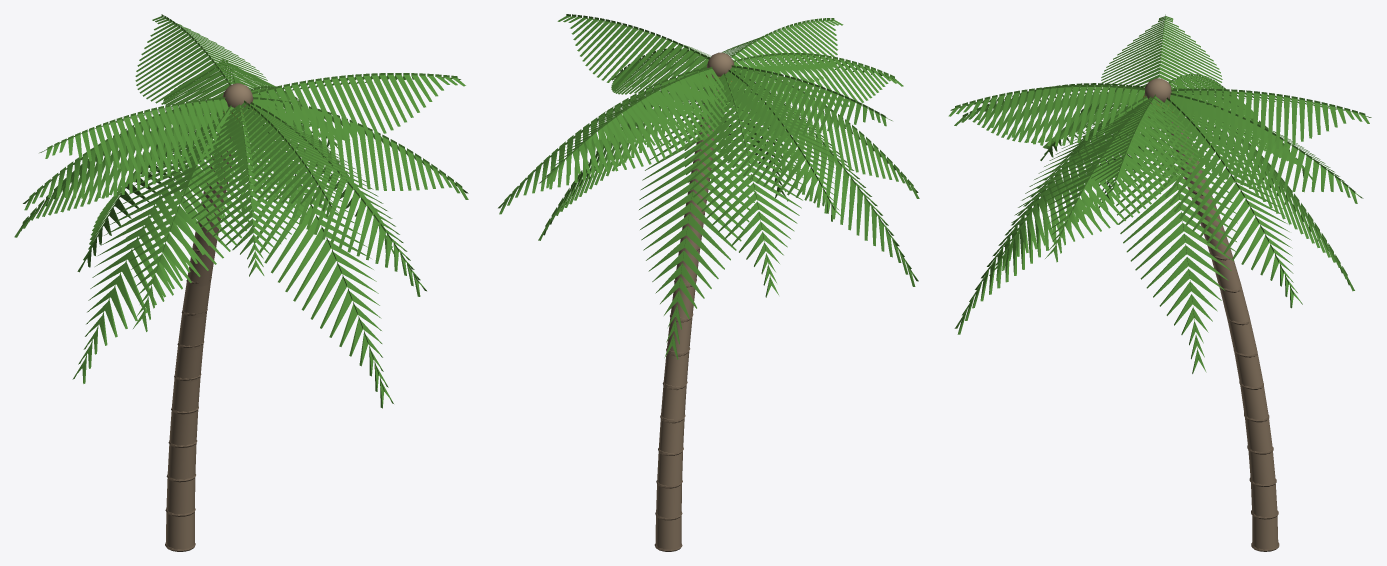
File: palm.glb
The picture shows the model from 3 angles, left to right: view 1: azimuth 30°, elevation 25°; view 2: azimuth 150°, elevation 25°; view 3: azimuth 270°, elevation 25°; orthographic projection. The views are drawn at different scales.
Parts seen in each view (by area): view 1: frond3, frond6, frond5, frond0, frond8, frond7, frond12, frond4, frond2, frond1, frond9, frond10 (+13 smaller); view 2: frond11, frond10, frond9, frond12, frond8, frond0, frond13, frond7, frond5, frond6, frond14, frond4 (+9 smaller); view 3: frond14, frond15, frond12, frond0, frond4, frond1, frond8, frond13, frond2, frond3, frond11, frond5 (+12 smaller).
Part boxes in pixels (bbox=[...]): frond3: bbox=[237, 108, 393, 408]; frond6: bbox=[126, 105, 260, 331]; frond5: bbox=[181, 104, 311, 276]; frond0: bbox=[252, 73, 465, 140]; frond8: bbox=[39, 97, 229, 173]; frond7: bbox=[72, 105, 238, 383]; frond12: bbox=[135, 14, 269, 104]; frond4: bbox=[213, 100, 348, 217]; frond2: bbox=[244, 102, 426, 296]; frond1: bbox=[252, 97, 468, 199]; frond9: bbox=[23, 98, 223, 210]; frond10: bbox=[14, 98, 220, 237]; frond11: bbox=[639, 76, 757, 359]; frond10: bbox=[684, 73, 803, 297]; frond9: bbox=[709, 70, 843, 221]; frond12: bbox=[582, 67, 727, 147]; frond8: bbox=[723, 65, 892, 136]; frond0: bbox=[557, 14, 710, 87]; frond13: bbox=[539, 68, 718, 188]; frond7: bbox=[733, 70, 918, 286]; frond5: bbox=[733, 52, 903, 107]; frond6: bbox=[734, 66, 919, 198]; frond14: bbox=[498, 67, 706, 214]; frond4: bbox=[722, 18, 843, 82]; frond14: bbox=[1150, 97, 1302, 308]; frond15: bbox=[1116, 102, 1237, 373]; frond12: bbox=[1171, 88, 1371, 151]; frond0: bbox=[1076, 94, 1198, 197]; frond4: bbox=[948, 85, 1145, 146]; frond1: bbox=[1045, 96, 1173, 262]; frond8: bbox=[1101, 14, 1222, 95]; frond13: bbox=[1167, 93, 1363, 203]; frond2: bbox=[989, 96, 1153, 280]; frond3: bbox=[954, 97, 1145, 334]; frond11: bbox=[1179, 112, 1354, 291]; frond5: bbox=[954, 83, 1145, 142].
Size of the model in its own units: 5.92 by 7.22 by 5.95.
